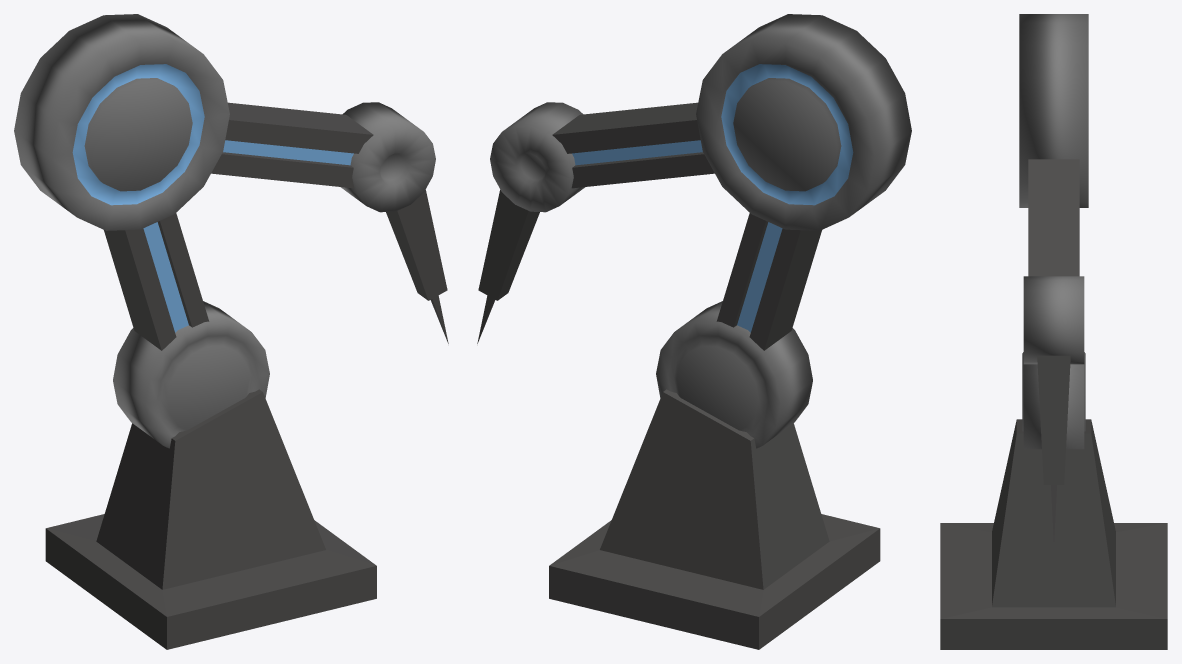
File: mecha_ramie.glb
The picture shows the model from 3 angles, left to right: view 1: azimuth 30°, elevation 25°; view 2: azimuth 150°, elevation 25°; view 3: azimuth 270°, elevation 25°; orthographic projection. The views are drawn at different scales.
Parts seen in each view (by area): view 1: Cube, Cylinder.001, Cylinder, Cube.002, Cube.001, Cylinder.002, Cube.003; view 2: Cube, Cylinder.001, Cylinder, Cube.002, Cube.001, Cylinder.002, Cube.003; view 3: Cube, Cylinder.001, Cube.002, Cylinder.002, Cube.003, Cylinder.
Part boxes in pixels (x1,y1,x2,y2): Cube: (45, 389, 376, 649); Cylinder.001: (14, 14, 229, 230); Cylinder: (113, 301, 269, 448); Cube.002: (211, 102, 373, 188); Cube.001: (104, 213, 209, 350); Cylinder.002: (340, 102, 435, 212); Cube.003: (386, 189, 448, 343); Cube: (549, 389, 880, 649); Cylinder.001: (696, 14, 911, 230); Cylinder: (656, 301, 812, 448); Cube.002: (552, 102, 714, 188); Cube.001: (716, 213, 821, 350); Cylinder.002: (490, 102, 585, 212); Cube.003: (477, 189, 539, 343); Cube: (940, 419, 1167, 649); Cylinder.001: (1019, 14, 1088, 207); Cube.002: (1028, 159, 1079, 276); Cylinder.002: (1023, 276, 1084, 364); Cube.003: (1037, 355, 1070, 541); Cylinder: (1022, 352, 1085, 449).
Size of the model in its own units: 3.97 by 5.22 by 2.
